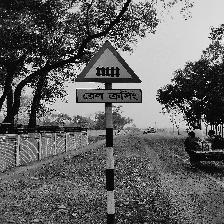Rail-crossing: (74, 41, 143, 104)
